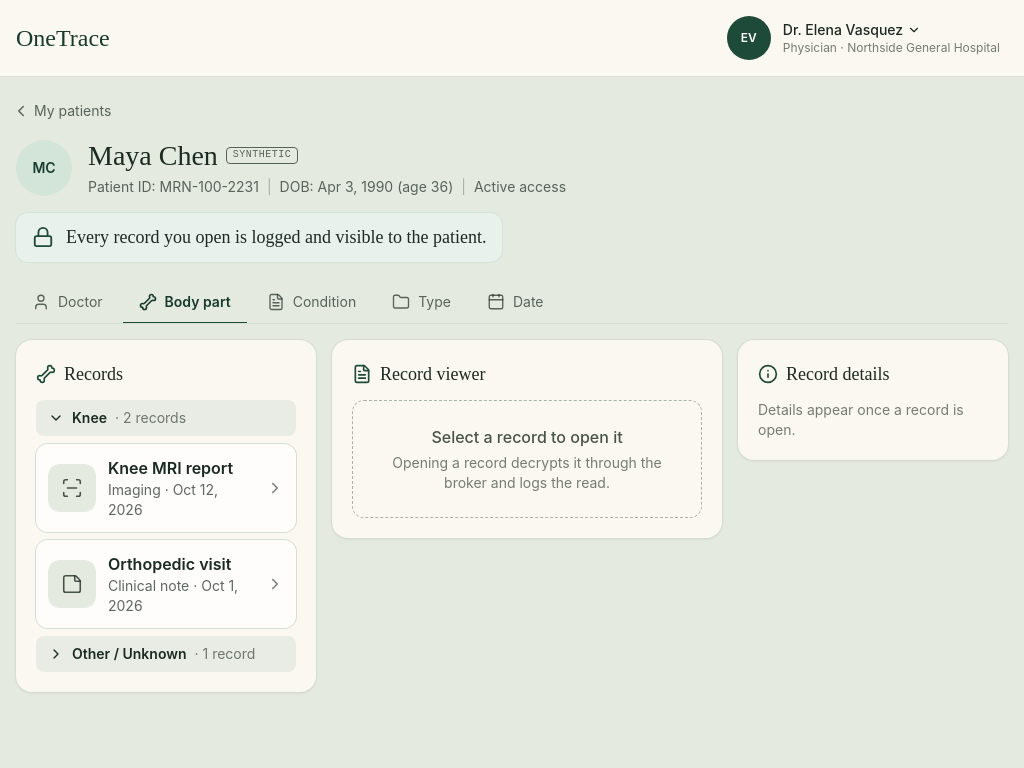
it: Patient records (mockup page 3, screen 3) › lists records compactly: group bars, category · date, a Sensitive pill, collapsed second group
expect the link "Knee MRI report Imaging · Oct 12, 2026" is shown: met, box x1=36 y1=444 x2=296 y2=532
expect the link "Orthopedic visit Clinical note · Oct 1, 2026" is shown: met, box x1=36 y1=540 x2=296 y2=628
Click the button "Other / Unknown · 1 record" at (166, 654), box x1=36 y1=636 x2=296 y2=672
(page scrolled)
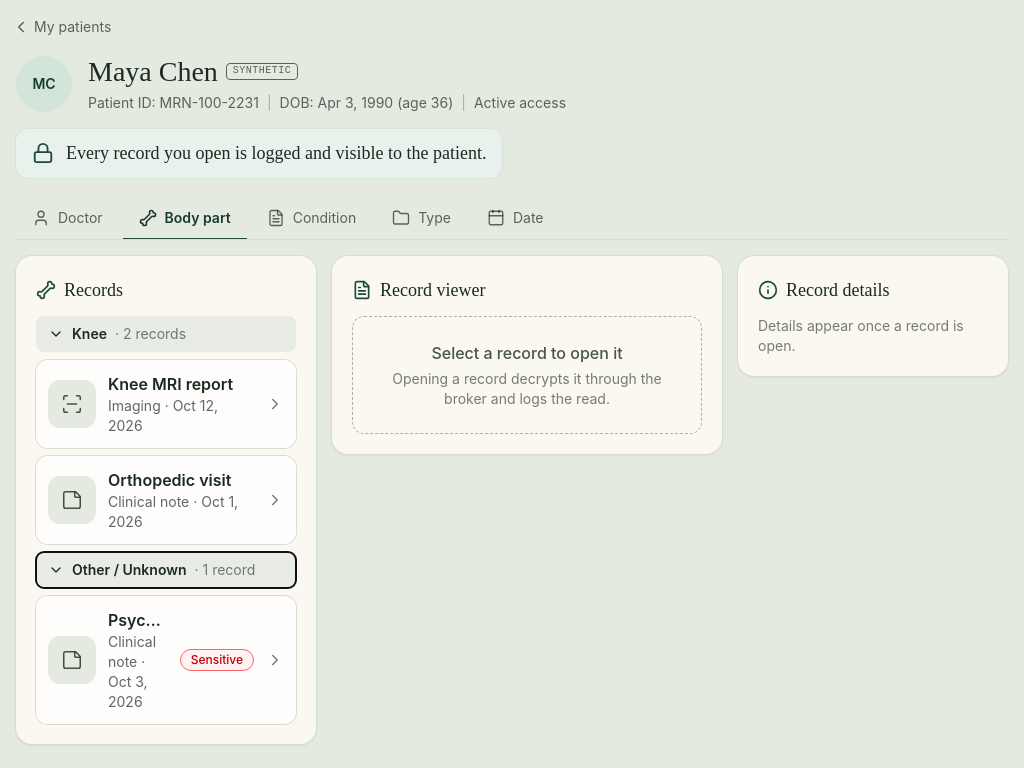
expect the text "Sensitive" is shown: met, box x1=180 y1=649 x2=254 y2=671
expect the link "Psychiatry follow-up note" shows "Clinical note · Oct 3, 2026": met, box x1=36 y1=596 x2=296 y2=724
